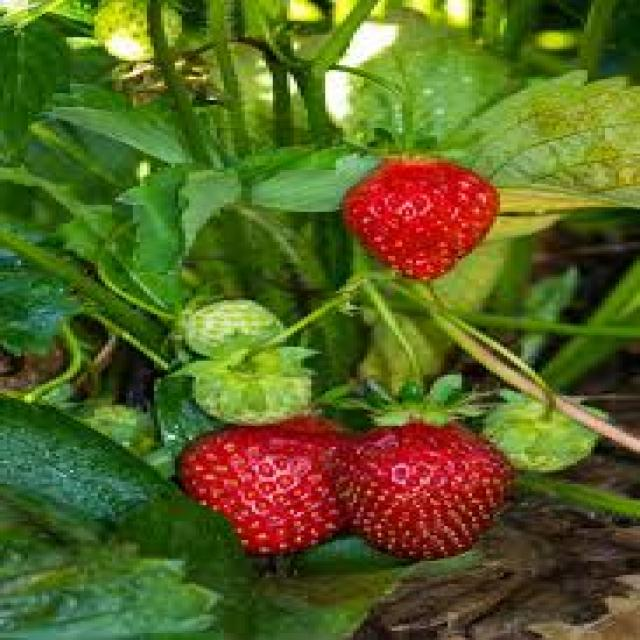strawberry: (341, 382, 508, 571), (170, 411, 352, 551), (328, 147, 500, 280)
